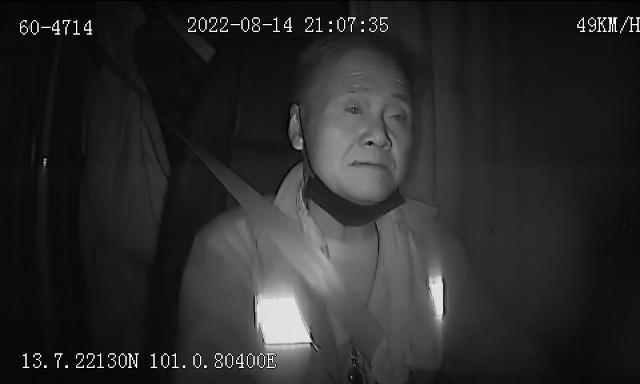SafeDriving: (380, 98, 413, 132), (337, 94, 371, 123)
Seatbelt: (196, 148, 390, 368)
